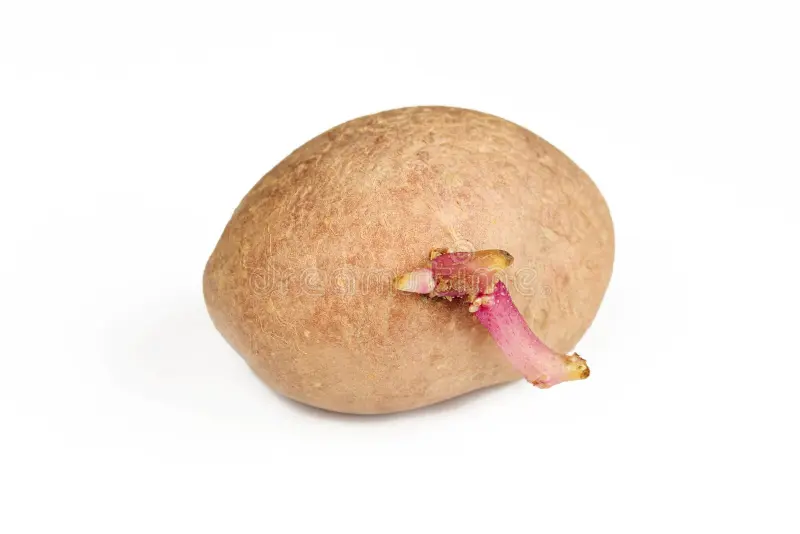potato rotten: (189, 98, 643, 478)
